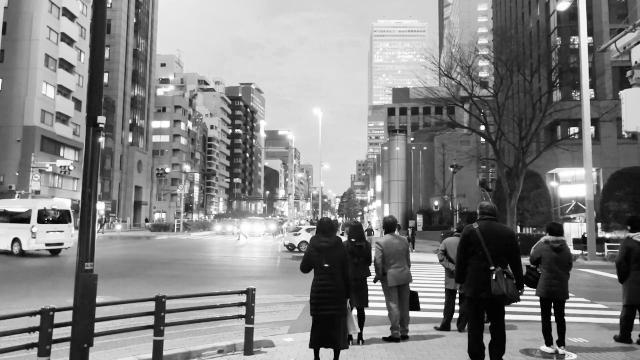berdiri: (454, 190, 520, 360), (299, 208, 355, 360), (525, 224, 577, 350), (370, 206, 414, 346), (610, 221, 640, 354), (434, 224, 468, 325)
